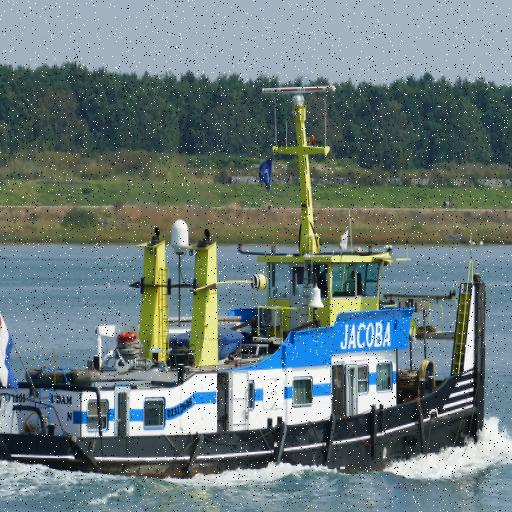tugboat: (1, 82, 492, 492)
